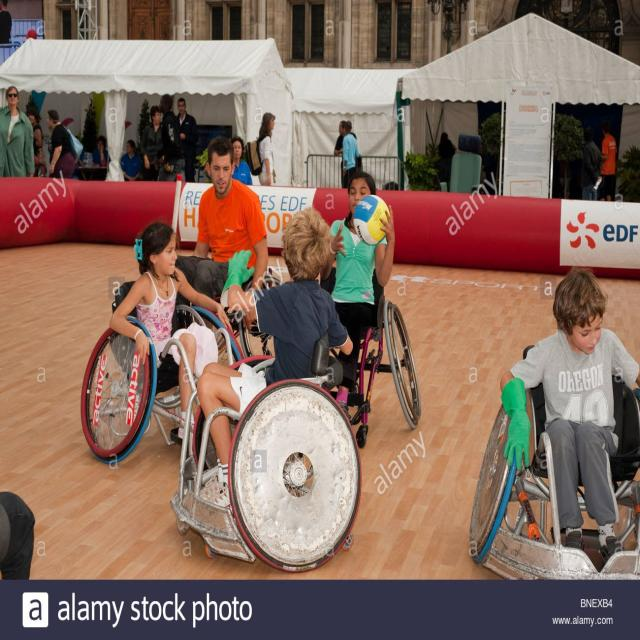body: (190, 204, 354, 520), (496, 263, 640, 568), (109, 222, 234, 443), (318, 170, 398, 425), (172, 134, 269, 331), (0, 488, 41, 579), (0, 85, 36, 179), (244, 112, 277, 186), (174, 95, 199, 184), (46, 109, 75, 180), (140, 104, 164, 181), (24, 106, 48, 177), (597, 122, 618, 202), (581, 127, 603, 202), (334, 120, 358, 188), (229, 136, 254, 187), (342, 119, 359, 189), (437, 128, 456, 182), (120, 140, 142, 182), (92, 134, 112, 168), (0, 0, 12, 44), (26, 26, 38, 40)
